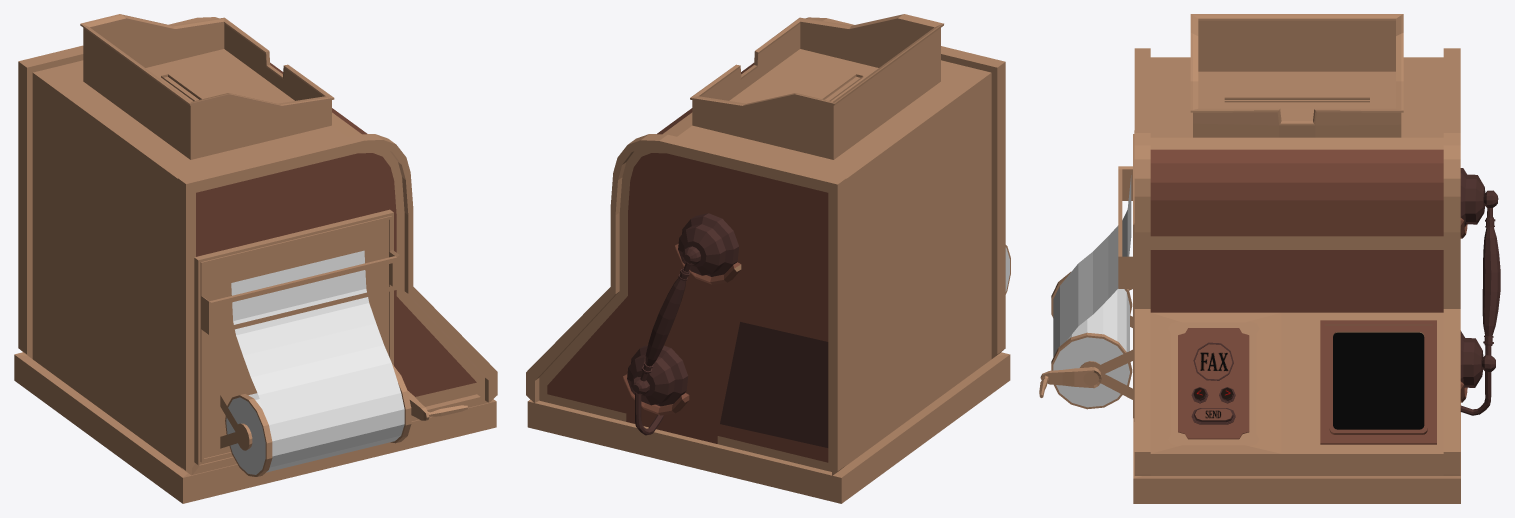
File: fax4.fbx
3 views of the same model, side by side, from view 1: azimuth 30°, elevation 25°; view 2: azimuth 150°, elevation 25°; view 3: azimuth 270°, elevation 25° (orthographic). The views are drawn at different scales.
Parts seen in each view (by area): view 1: Fax; view 2: Fax, telefone; view 3: Fax, telefone, botao3.
Part boxes in pixels (box(x1,y1,x2,y2)): Fax: box(14, 14, 497, 503); Fax: box(526, 14, 1010, 503); telefone: box(627, 213, 739, 435); Fax: box(1039, 14, 1467, 503); telefone: box(1460, 168, 1500, 415); botao3: box(1191, 408, 1235, 424).
Bounding box in the file's own units: 210 × 234 × 273.
14 materials, 4 textured.
